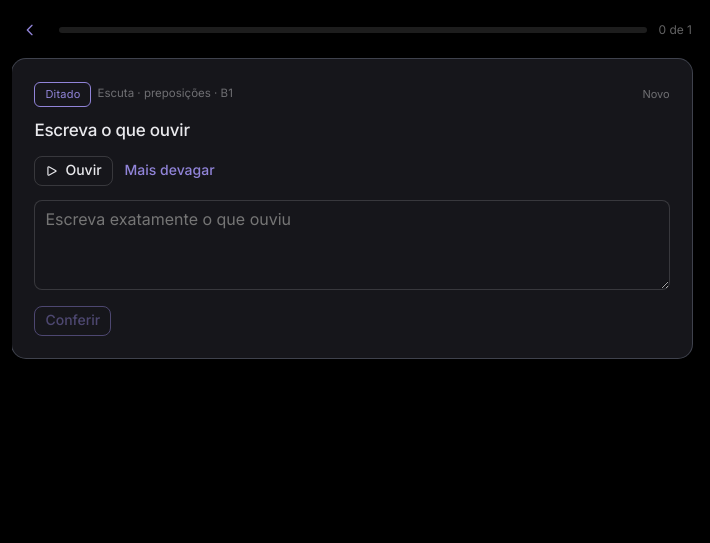
Test: o ditado não mostra o texto antes da correção
Check: the text "The deploy finished" is not shown
Step 1. Type "The deploy is done" into the text box named "O que você ouviu" → point(352, 244), box top-left (34, 200), bottom-right (670, 290)
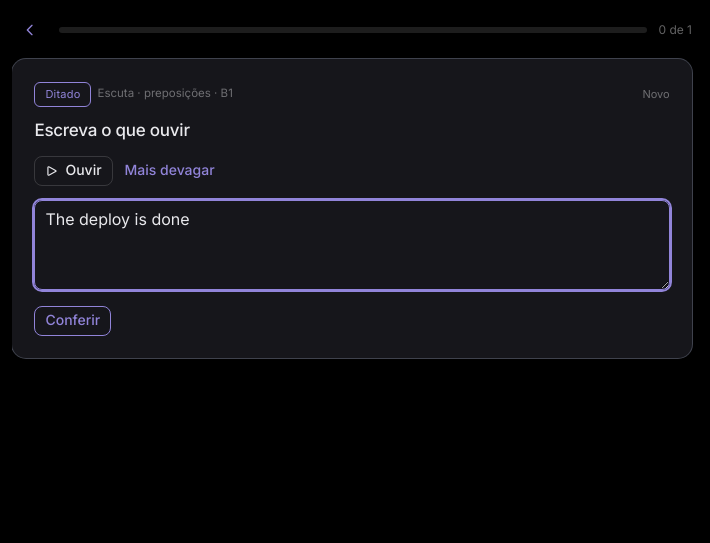
Step 2. Click the button "Conferir" → point(73, 321), box top-left (34, 306), bottom-right (111, 336)
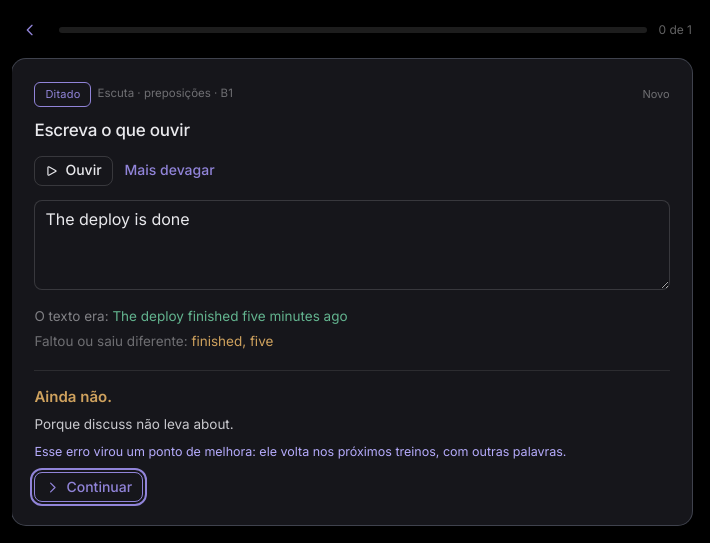
Check: the text "The deploy finished five minutes ago" is shown, box top-left (112, 308), bottom-right (348, 324)
Check: the text "finished" is shown, box top-left (191, 333), bottom-right (242, 349)
Check: the text "volta nos próximos treinos, com outras palavras" is shown, box top-left (34, 444), bottom-right (566, 460)
